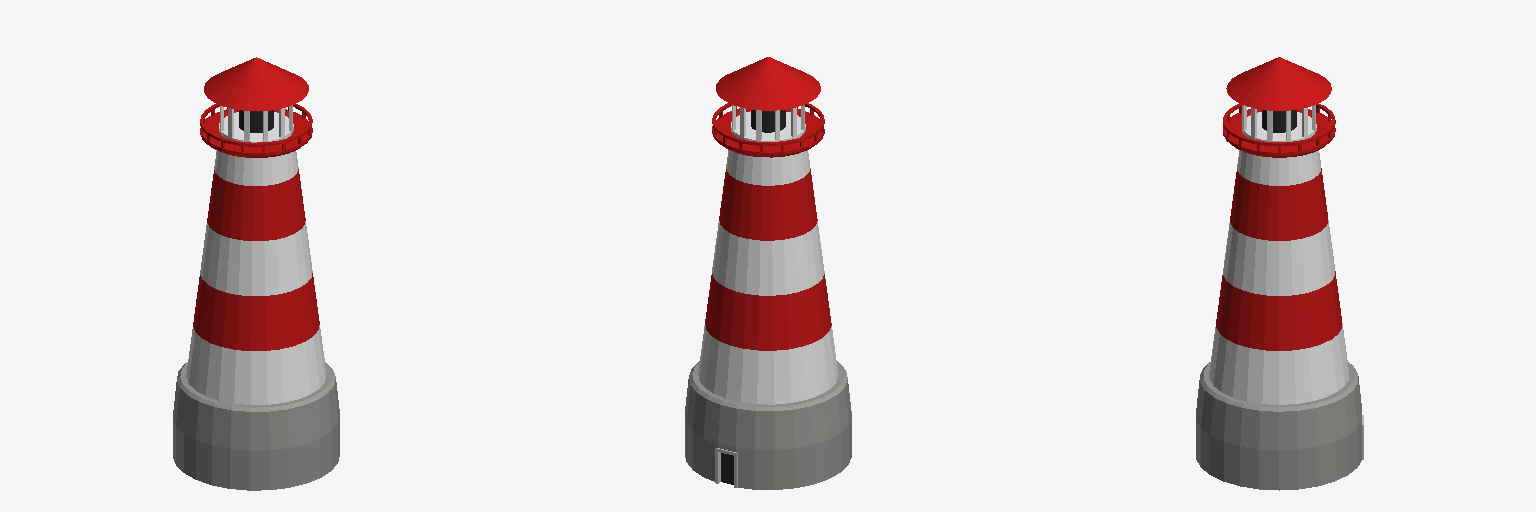
Rendered from Prop_Decorative_Lighthouse.obj.
The picture shows the model from 3 angles: view 1: azimuth 30°, elevation 25°; view 2: azimuth 150°, elevation 25°; view 3: azimuth 270°, elevation 25°; orthographic projection.
Visible parts, largest first — view 1: object1; view 2: object1; view 3: object1.
Part boxes in pixels (left/top/right/bottom): object1: left=173, top=57, right=339, bottom=490; object1: left=685, top=57, right=851, bottom=489; object1: left=1196, top=57, right=1363, bottom=490.
Size of the model in its own units: 2.38 by 6.23 by 2.38.